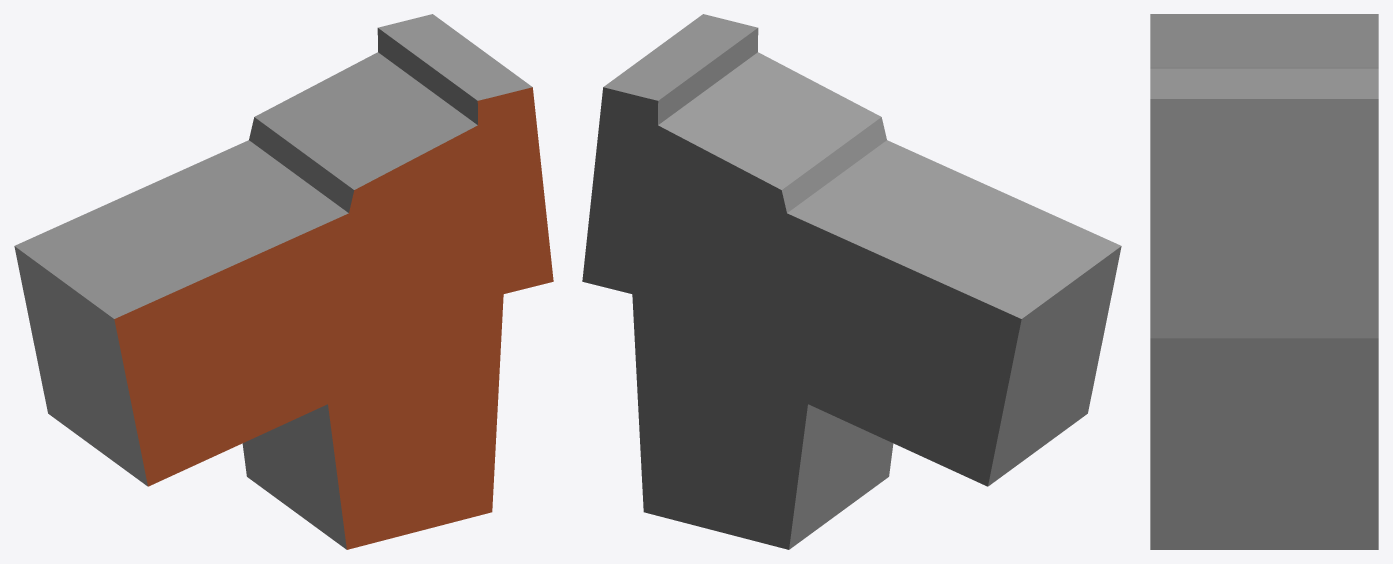
File: construction_7151_assumed_A_Ruinas_h6m.obj
3 views of the same model, side by side, from view 1: azimuth 30°, elevation 25°; view 2: azimuth 150°, elevation 25°; view 3: azimuth 270°, elevation 25° (orthographic). The views are drawn at different scales.
Parts seen in each view (by area): view 1: construction_7151_assumed_A_Ruinas; view 2: construction_7151_assumed_A_Ruinas; view 3: construction_7151_assumed_A_Ruinas.
Part boxes in pixels (x1,y1,x2,y2): construction_7151_assumed_A_Ruinas: (14,14,553,549); construction_7151_assumed_A_Ruinas: (582,14,1121,549); construction_7151_assumed_A_Ruinas: (1150,14,1378,549).
Bounding box in the file's own units: 15.22 × 13.81 × 6.
